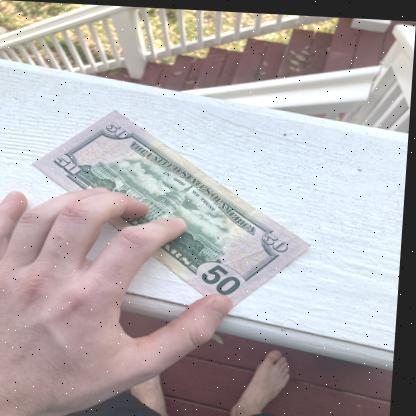fifty-back: (34, 104, 310, 315)
